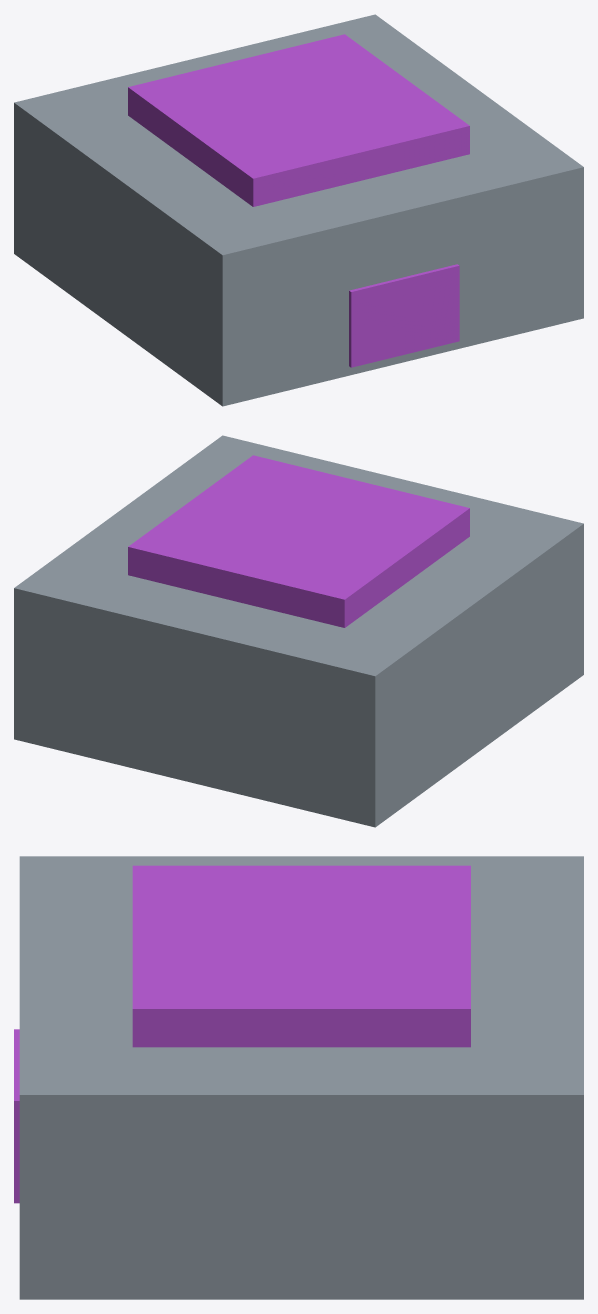
The model's file is CH_NavalYard_LOD0.glb.
3 renders of one model, top to bottom at view 1: azimuth 30°, elevation 25°; view 2: azimuth 150°, elevation 25°; view 3: azimuth 270°, elevation 25°, orthographic. The views are drawn at different scales.
Parts seen in each view (by area): view 1: EntranceGate; view 2: EntranceGate; view 3: EntranceGate.
Boxes of the visible parts, x1,y1,x2,y2 form: EntranceGate: [14, 14, 583, 406]; EntranceGate: [14, 435, 583, 827]; EntranceGate: [14, 856, 583, 1299].
Bounding box in the file's own units: 1000 × 475 × 1010.
